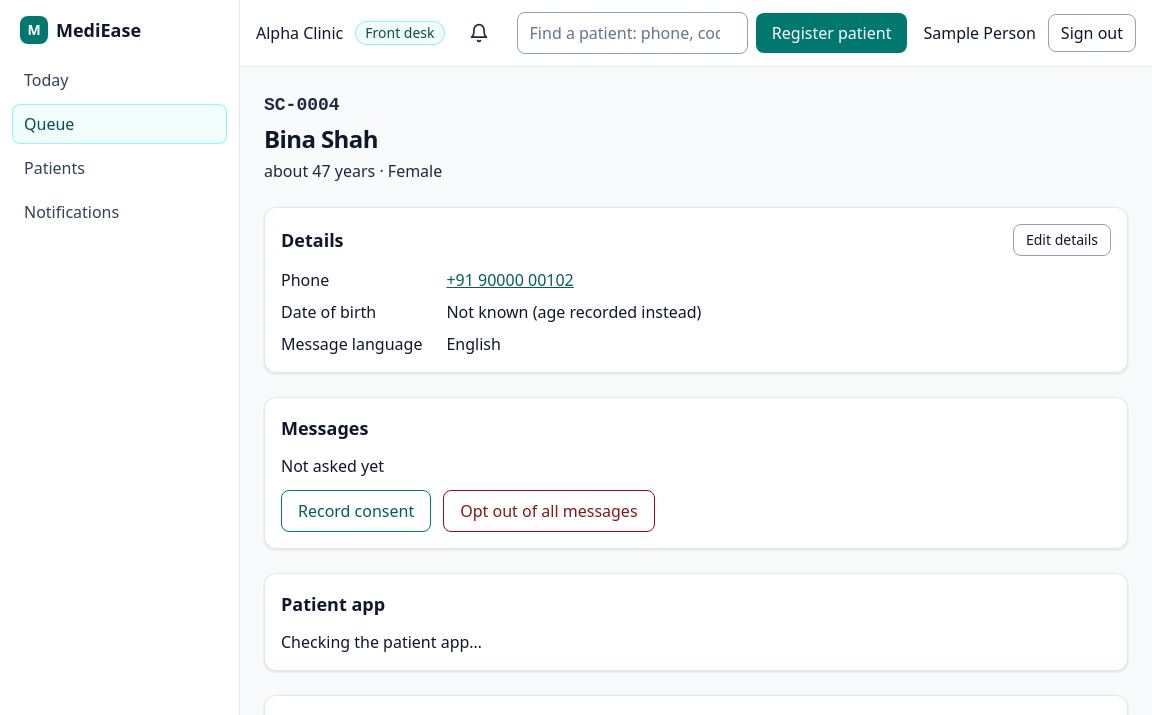
Test case: consent, opt-out and opt-in (FR-PAT-05, FR-MSG-05) › PAT_OPTED_OUT from a stale screen is explained and the screen catches up
What coordinates should you click on to do the following:
click the button "Record consent"
I would click on:
 (356, 511)
Its box is top-left (281, 490), bottom-right (431, 532).
(page scrolled)
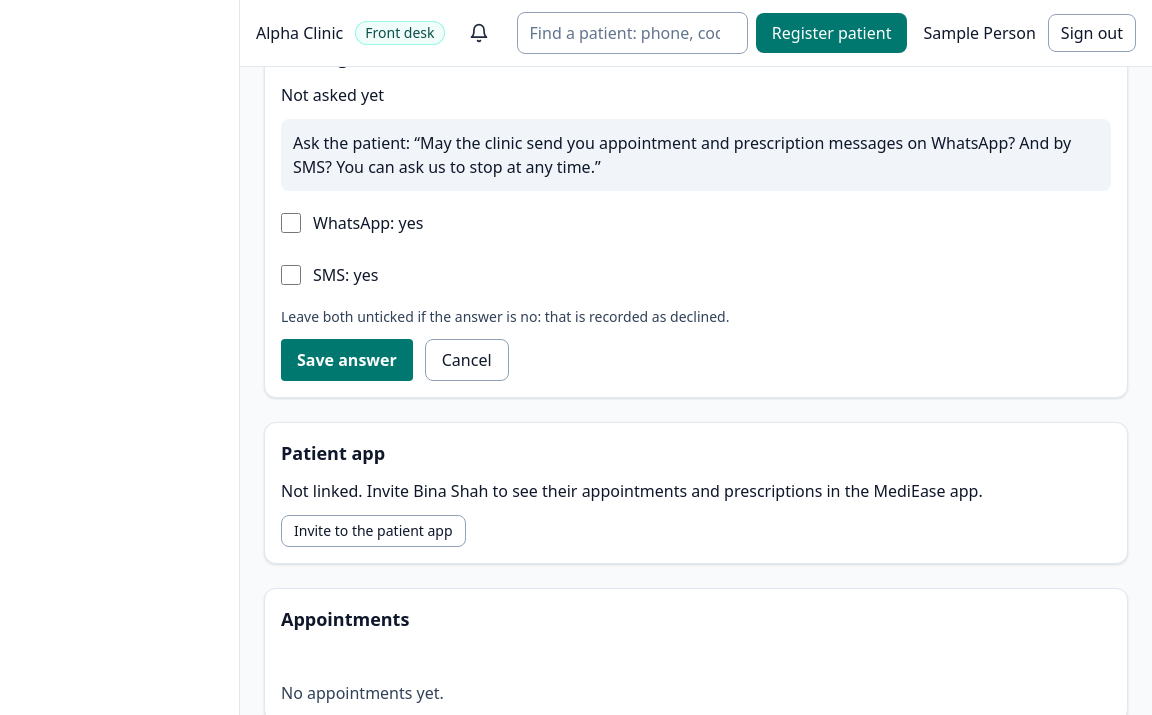
What coordinates should you click on to do the following:
click the button "Save answer"
I would click on:
 (347, 360)
Its box is top-left (281, 339), bottom-right (413, 381).
(page scrolled)
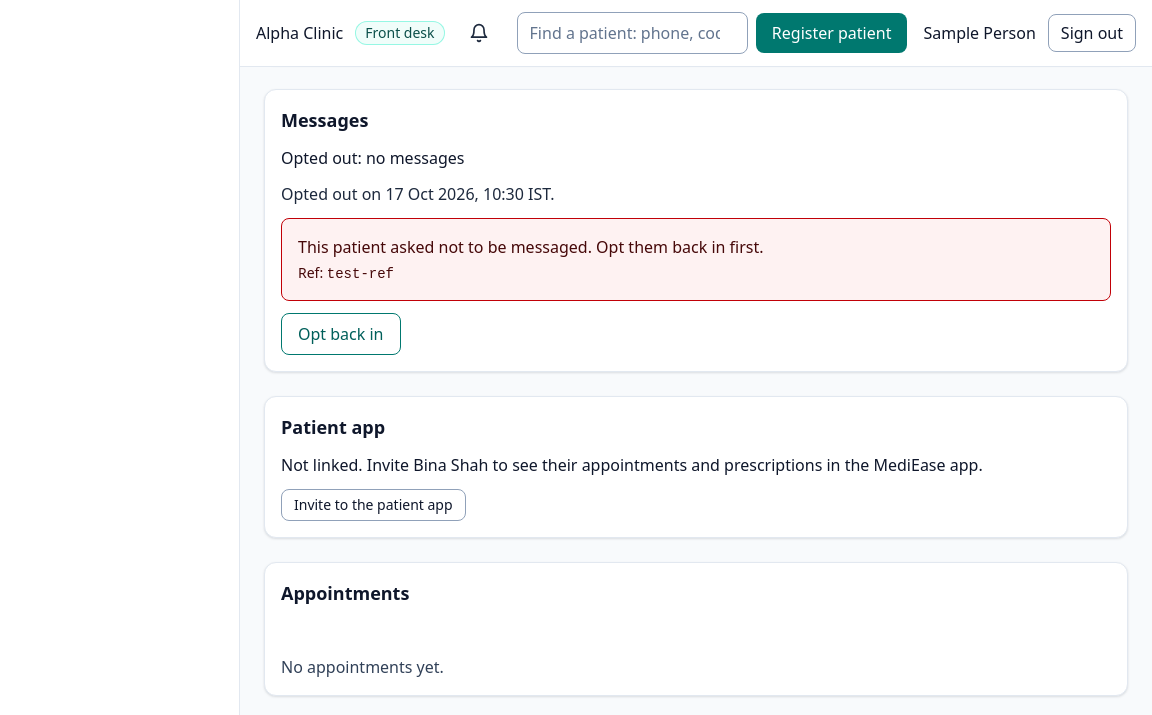
Expected: the message "This patient asked not to be messaged. Opt them back in first. Ref: test-ref" is shown, top-left (281, 218), bottom-right (1111, 301)
Expected: the button "Opt back in" is shown, top-left (281, 313), bottom-right (400, 355)
